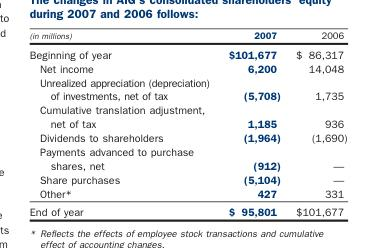table: (28, 29, 346, 216)
table column: (28, 29, 218, 216), (218, 29, 287, 216), (287, 29, 346, 216)
table column header: (28, 29, 346, 43)
table row: (28, 74, 346, 102), (28, 102, 346, 130), (28, 144, 346, 171), (28, 43, 346, 60), (28, 185, 346, 201), (28, 201, 346, 216), (28, 29, 346, 43), (28, 60, 346, 74), (28, 130, 346, 144), (28, 171, 346, 185)
